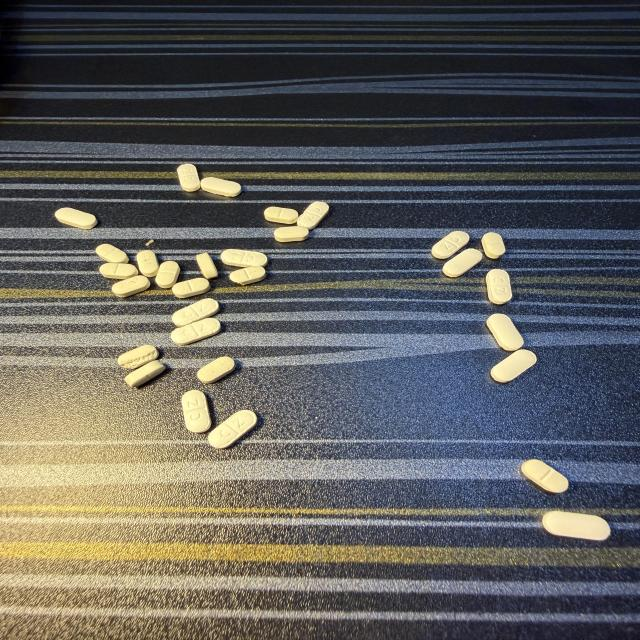pill: (543, 511, 610, 540), (208, 410, 257, 448), (521, 459, 568, 493), (486, 313, 524, 351), (491, 350, 536, 382), (172, 298, 219, 327), (171, 318, 220, 345), (182, 390, 211, 433), (442, 248, 482, 278), (125, 361, 165, 387), (432, 231, 469, 259), (198, 357, 235, 383), (118, 345, 158, 369), (486, 270, 512, 304), (55, 208, 97, 229), (297, 202, 329, 229), (112, 275, 150, 297), (221, 250, 267, 267), (172, 278, 210, 298), (201, 178, 241, 196), (156, 261, 180, 288), (230, 267, 266, 285), (177, 164, 200, 191), (100, 263, 138, 279), (96, 244, 128, 263), (264, 207, 298, 224), (482, 233, 505, 258), (137, 250, 158, 277), (196, 253, 217, 279), (275, 226, 308, 242), (145, 240, 154, 246)
